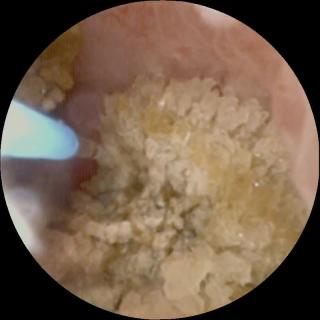fiber: (15, 110, 77, 159)
stone: (41, 74, 304, 315), (17, 25, 81, 112)
tissue: (66, 4, 312, 201)
